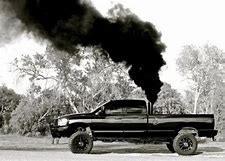smoke: (1, 1, 166, 101)
